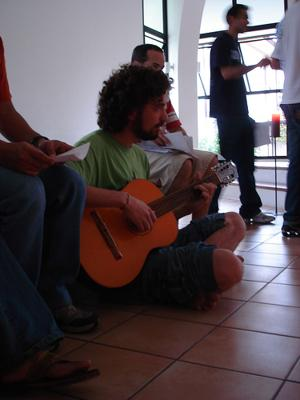person: (62, 64, 246, 312)
